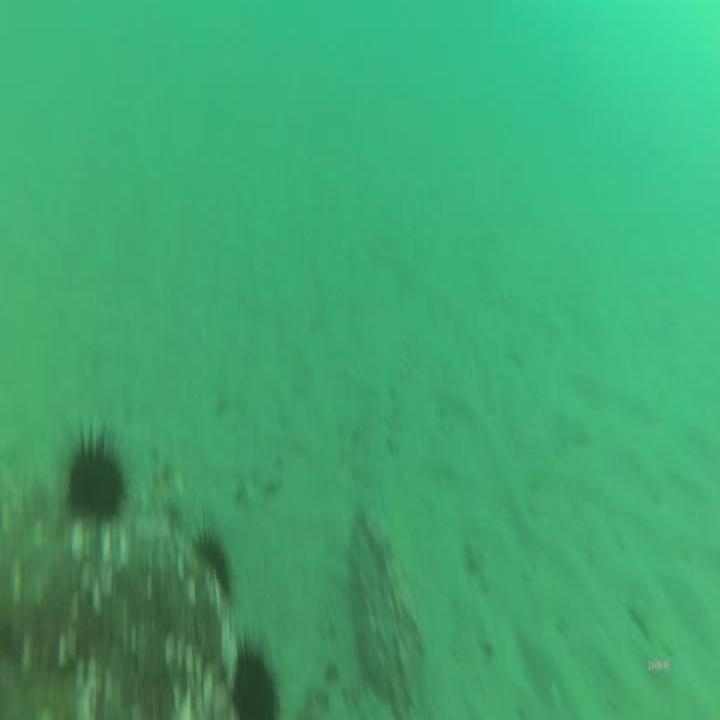echinus: (66, 437, 123, 530), (229, 643, 280, 720), (189, 530, 233, 602)
